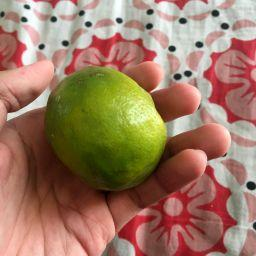Unripe: (47, 66, 169, 189)
